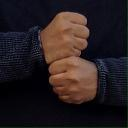hand: (39, 11, 90, 64), (48, 56, 99, 105)
